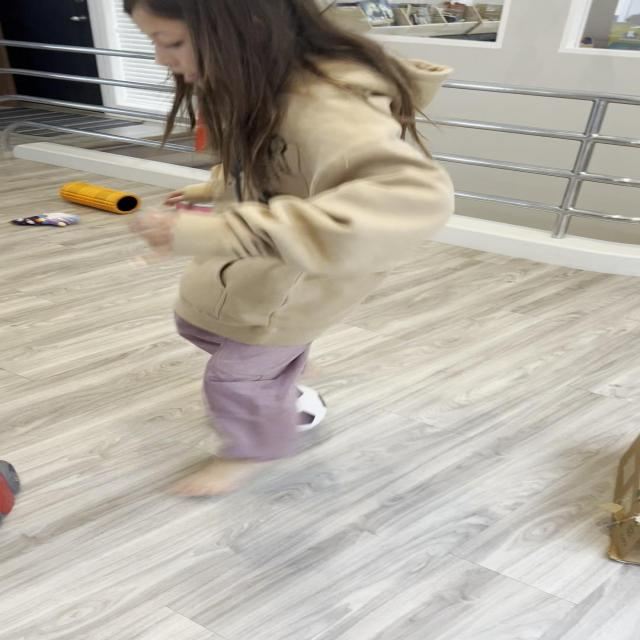Soccer Ball: (236, 381, 329, 434)
